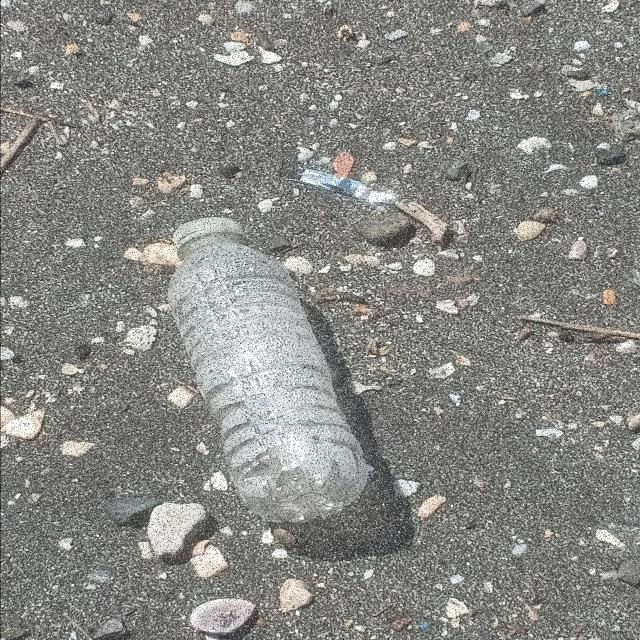plastic_waste: (166, 217, 371, 526)
